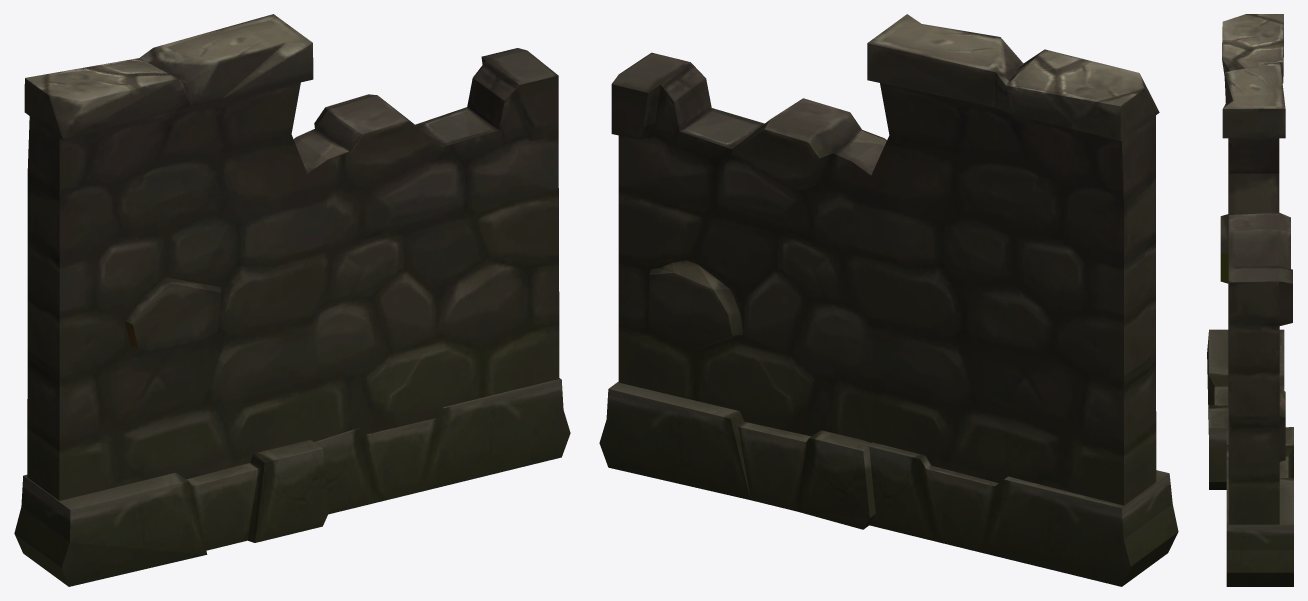
Rendered from humgraveyard_straight_05.fbx.
The picture shows the model from 3 angles, left to right: view 1: azimuth 30°, elevation 25°; view 2: azimuth 150°, elevation 25°; view 3: azimuth 270°, elevation 25°; orthographic projection. The views are drawn at different scales.
Parts seen in each view (by area): view 1: obj3.008; view 2: obj3.008; view 3: obj3.008.
Boxes of the visible parts, box(x1,y1,x2,y2) form: obj3.008: box(14, 14, 570, 586); obj3.008: box(599, 14, 1178, 586); obj3.008: box(1207, 14, 1293, 586).
Bounding box in the file's own units: 4.48 × 3.94 × 0.8147.
